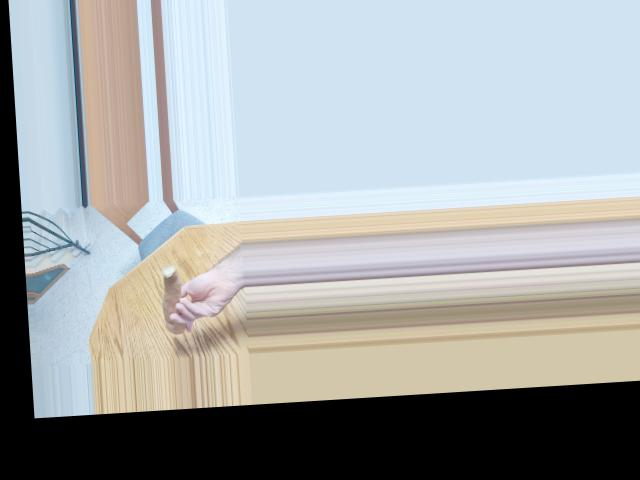sweet_potato: (159, 263, 191, 336)
